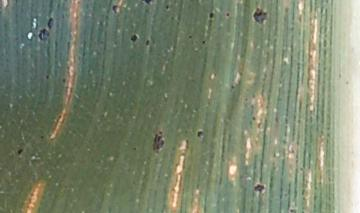tarspot: (151, 129, 165, 152), (252, 6, 267, 25), (36, 28, 50, 42), (253, 183, 266, 194), (46, 17, 55, 31), (129, 32, 139, 43), (111, 3, 118, 15), (196, 129, 204, 139), (140, 1, 154, 6), (208, 11, 215, 21), (16, 147, 23, 156), (144, 38, 150, 48), (250, 114, 257, 122), (229, 83, 236, 91), (130, 145, 138, 152), (283, 5, 289, 14), (344, 79, 350, 88), (337, 71, 342, 81), (60, 77, 67, 84), (38, 133, 45, 140), (288, 207, 296, 213), (200, 39, 207, 45), (225, 11, 230, 19), (164, 3, 169, 11), (187, 34, 193, 40), (44, 74, 49, 81)
